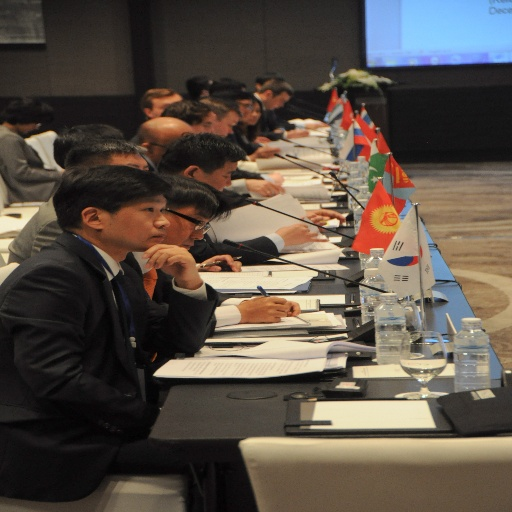hand: (139, 243, 201, 281), (230, 296, 287, 325), (273, 221, 331, 246), (196, 254, 242, 273), (245, 178, 286, 197), (305, 208, 348, 224), (284, 298, 303, 318), (252, 146, 282, 158), (307, 213, 328, 230), (268, 172, 286, 184), (286, 129, 311, 137), (250, 136, 270, 144), (304, 123, 321, 130)
